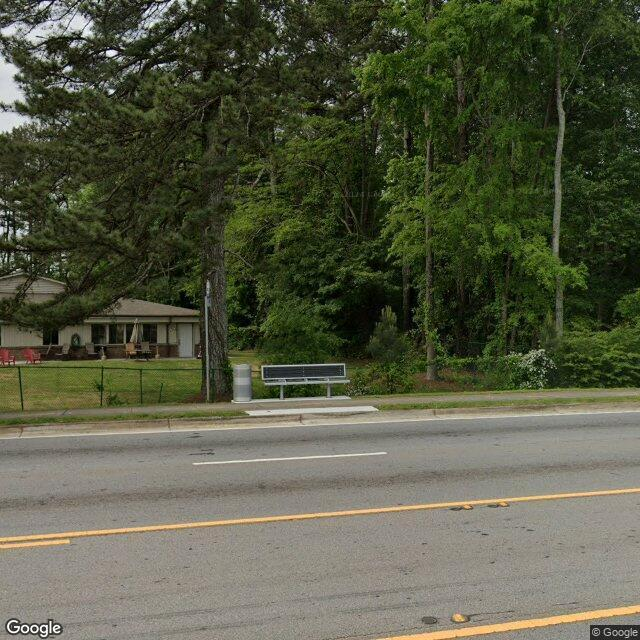seating: (260, 362, 351, 400)
trash_can: (232, 363, 252, 402)
